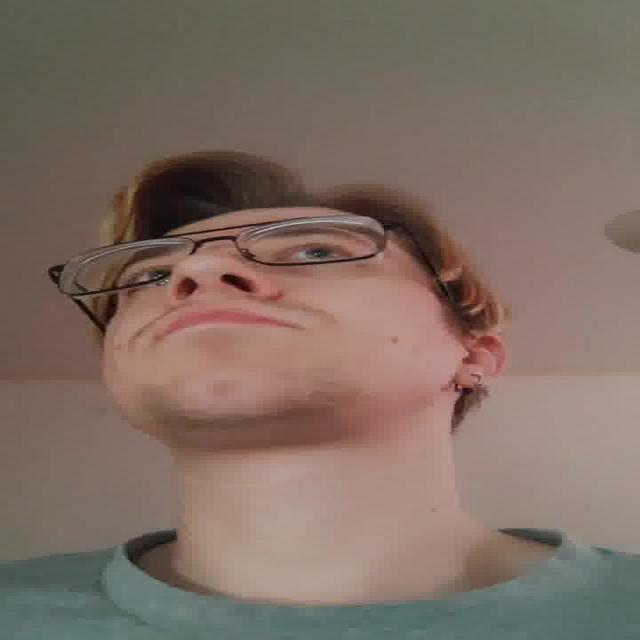earlobe: (451, 369, 488, 389)
eye: (275, 246, 352, 265), (125, 268, 171, 289)
nose: (165, 288, 278, 312)
wholeear: (450, 330, 510, 388)
